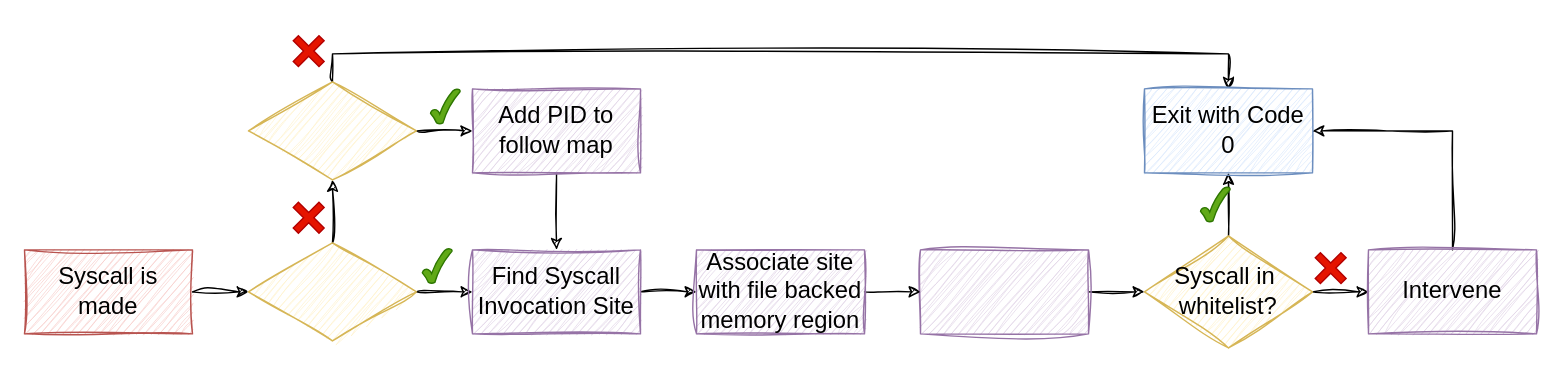
Some shapes in this 1561 by 372 pixel diagram are drawn without their labels. The shapes that lost their labels are listed below. From the top down, each one's centre as x and y in pixels, then its label:
pixel 331 130: PPID in follow map
pixel 331 291: PID in follow map
pixel 1003 291: Retrieve associated whitelist
